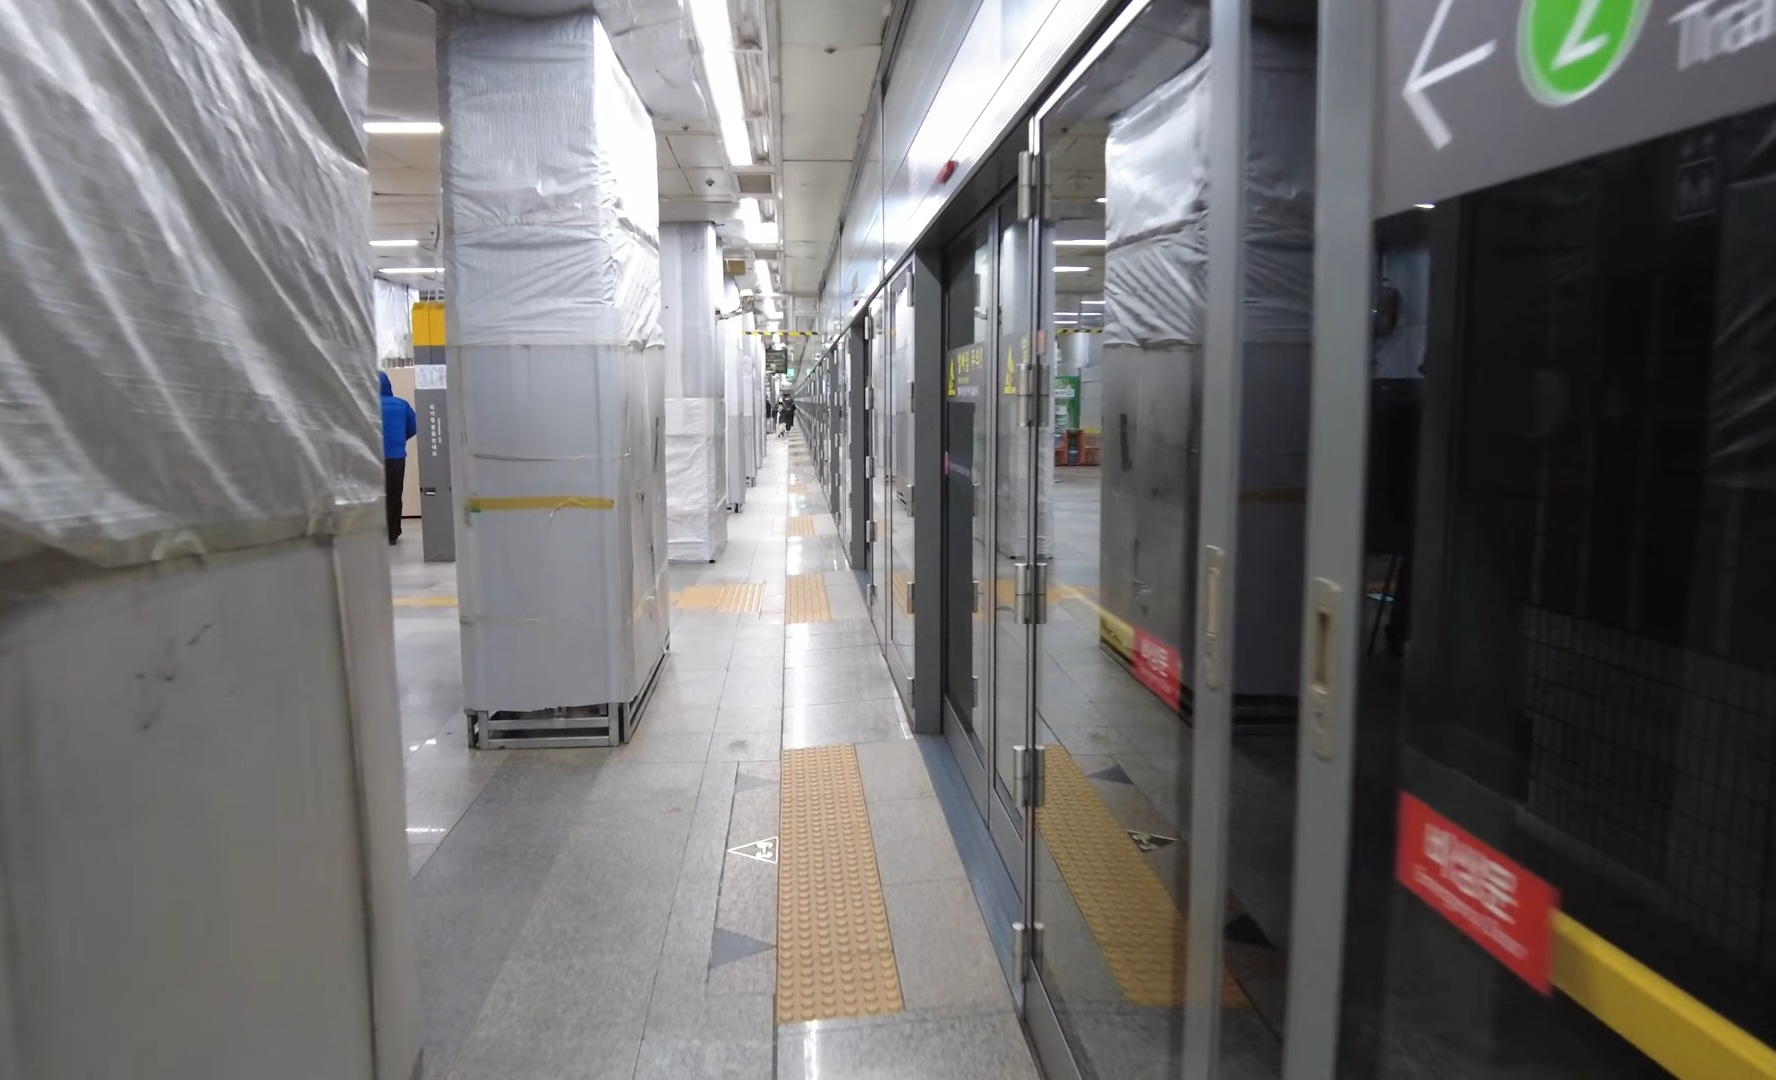warningBlock: (776, 951, 910, 1013), (784, 892, 893, 951), (785, 826, 880, 892), (781, 742, 852, 794), (787, 788, 870, 827)
